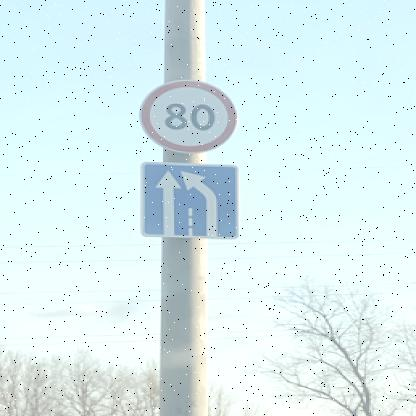speedlimit: (136, 78, 236, 152)
